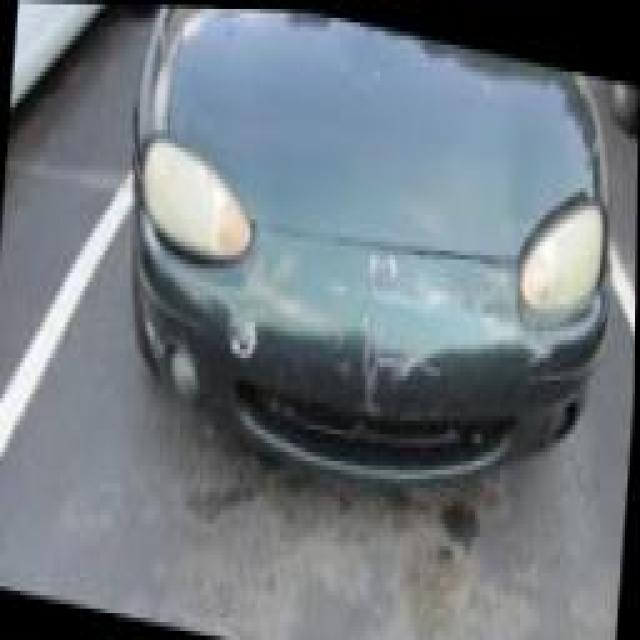Bumper: (212, 233, 528, 493)
